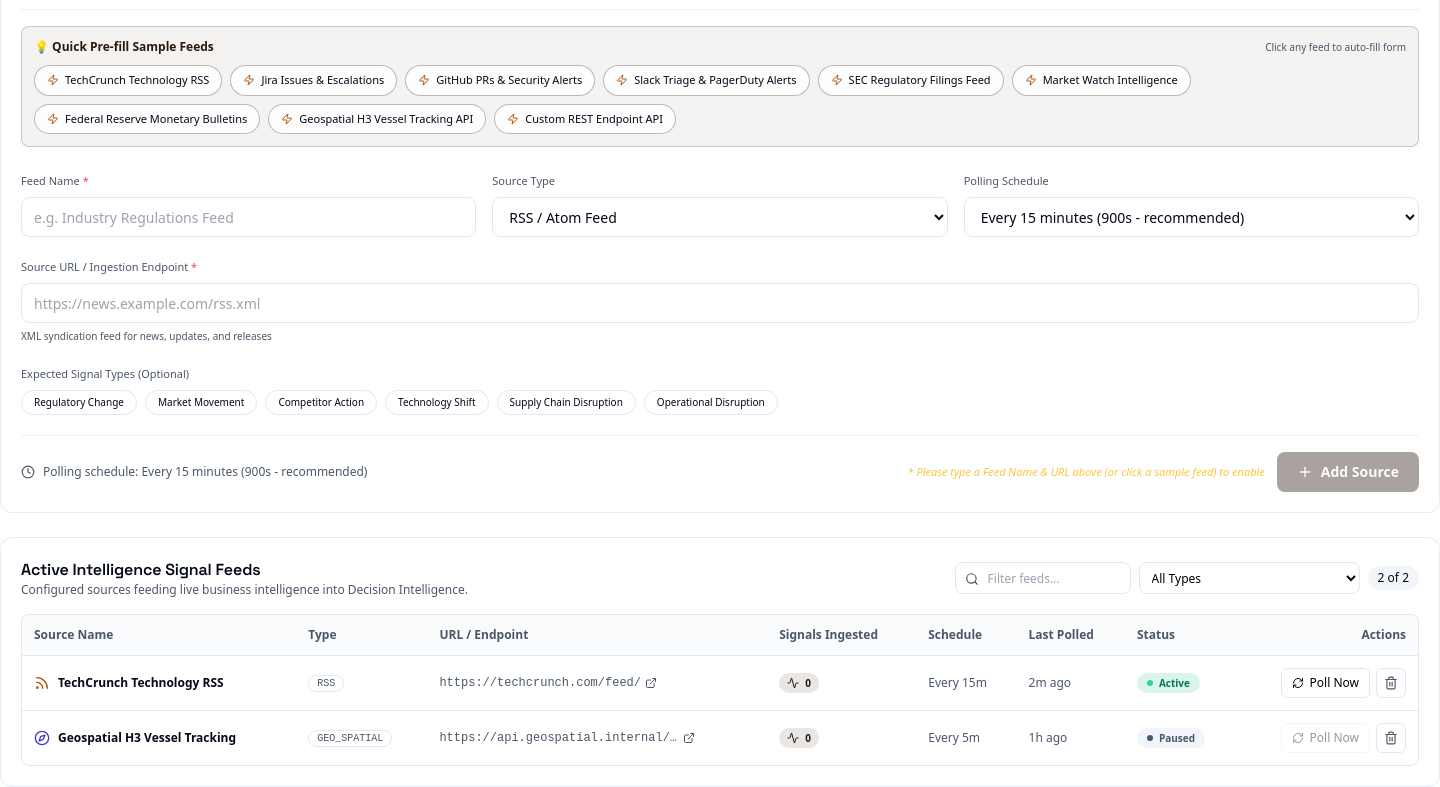
it: SourcesView › shows confirmation when delete button is clicked
(page scrolled)
Expected: the text "Geospatial H3 Vessel Tracking" is shown, 58,730 -> 236,746
What coordinates should you click on to do the following:
click the button titled "Disable and remove feed" in the row of "https://techcrunch.com/feed/"
I would click on:
 (1391, 683)
Its box is 1376,668 -> 1406,698.
(page scrolled)
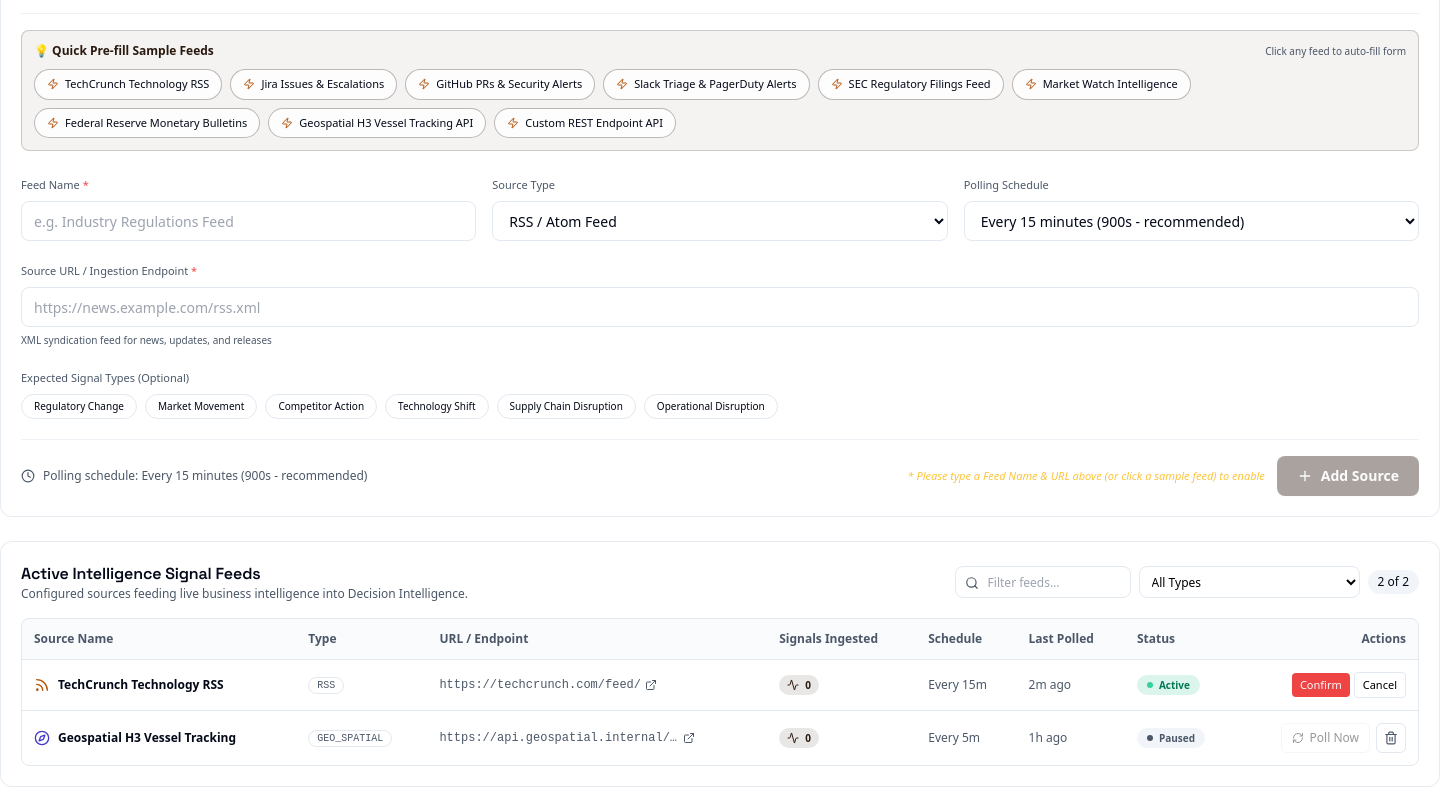
Result: the button "Confirm" is shown at 1292,673 -> 1350,697
Result: the button "Cancel" is shown at 1354,672 -> 1406,698
